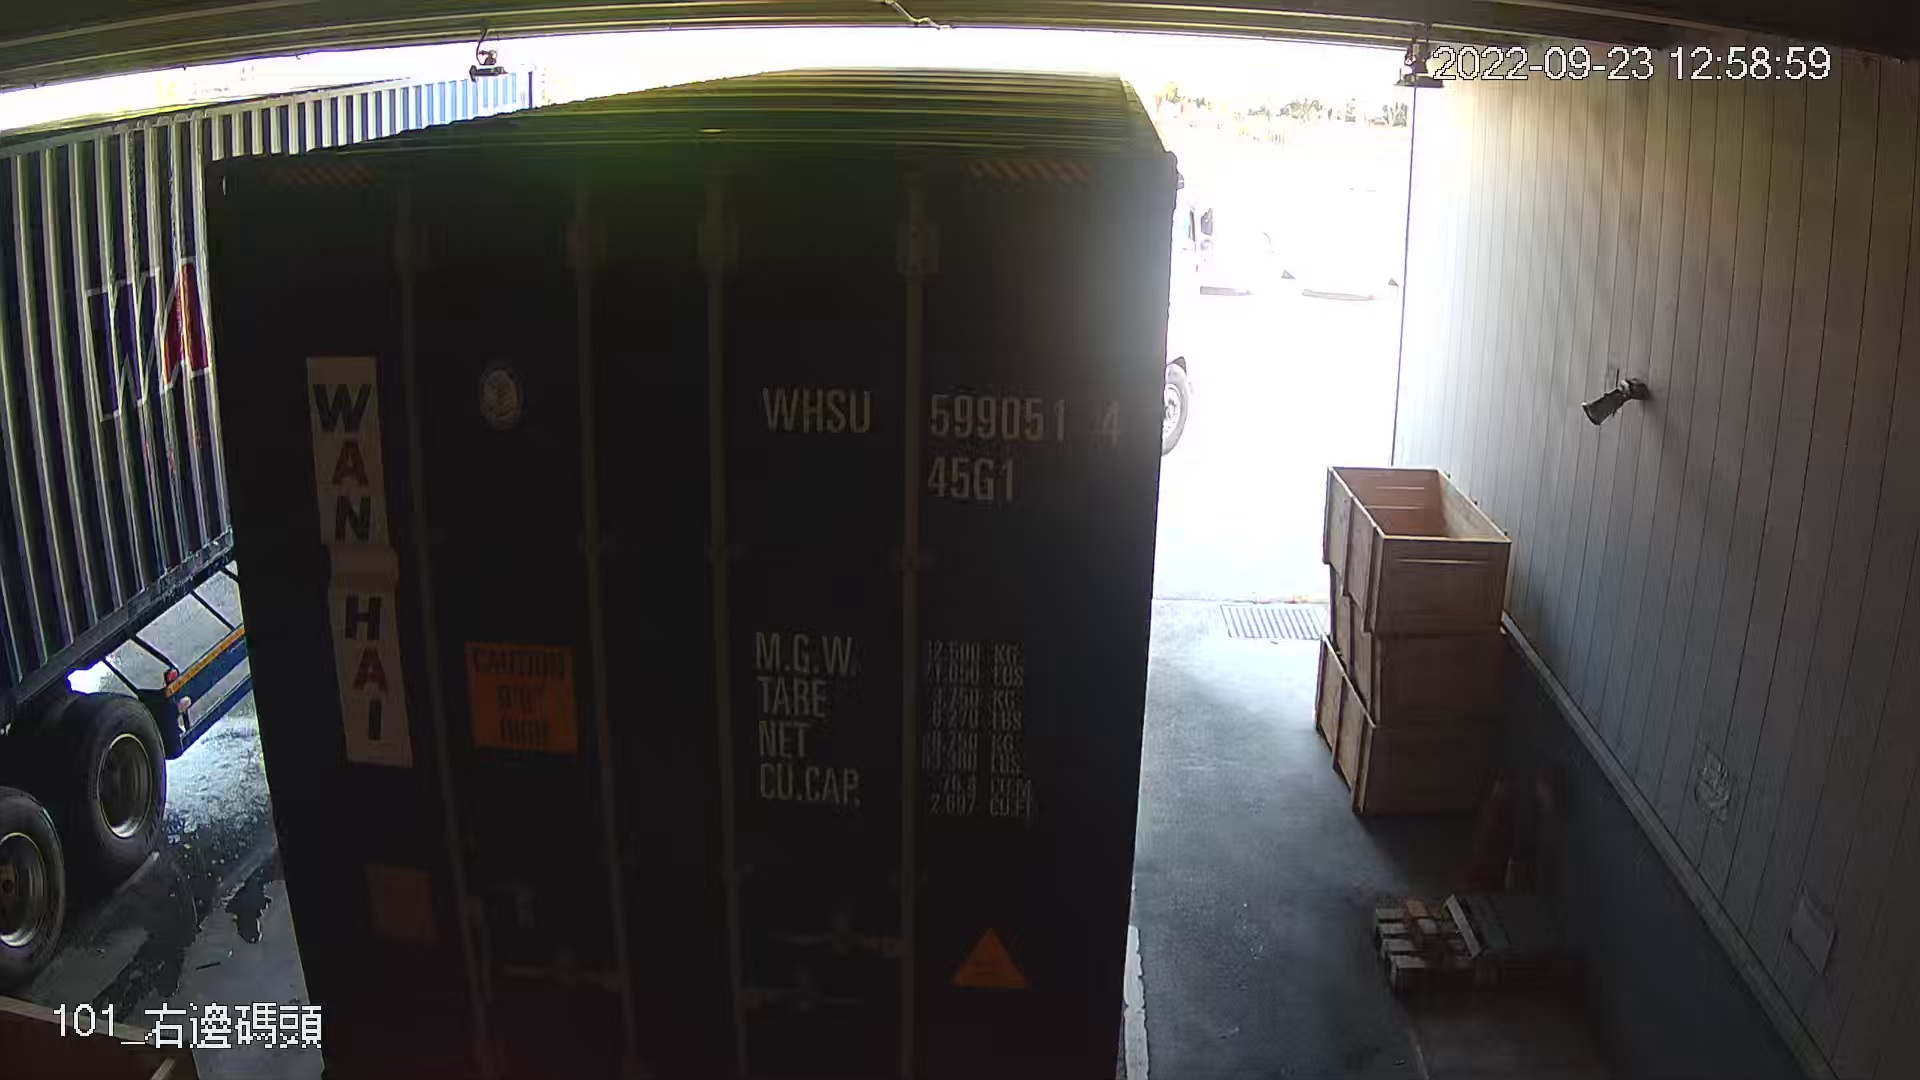container: (748, 359, 1135, 517)
